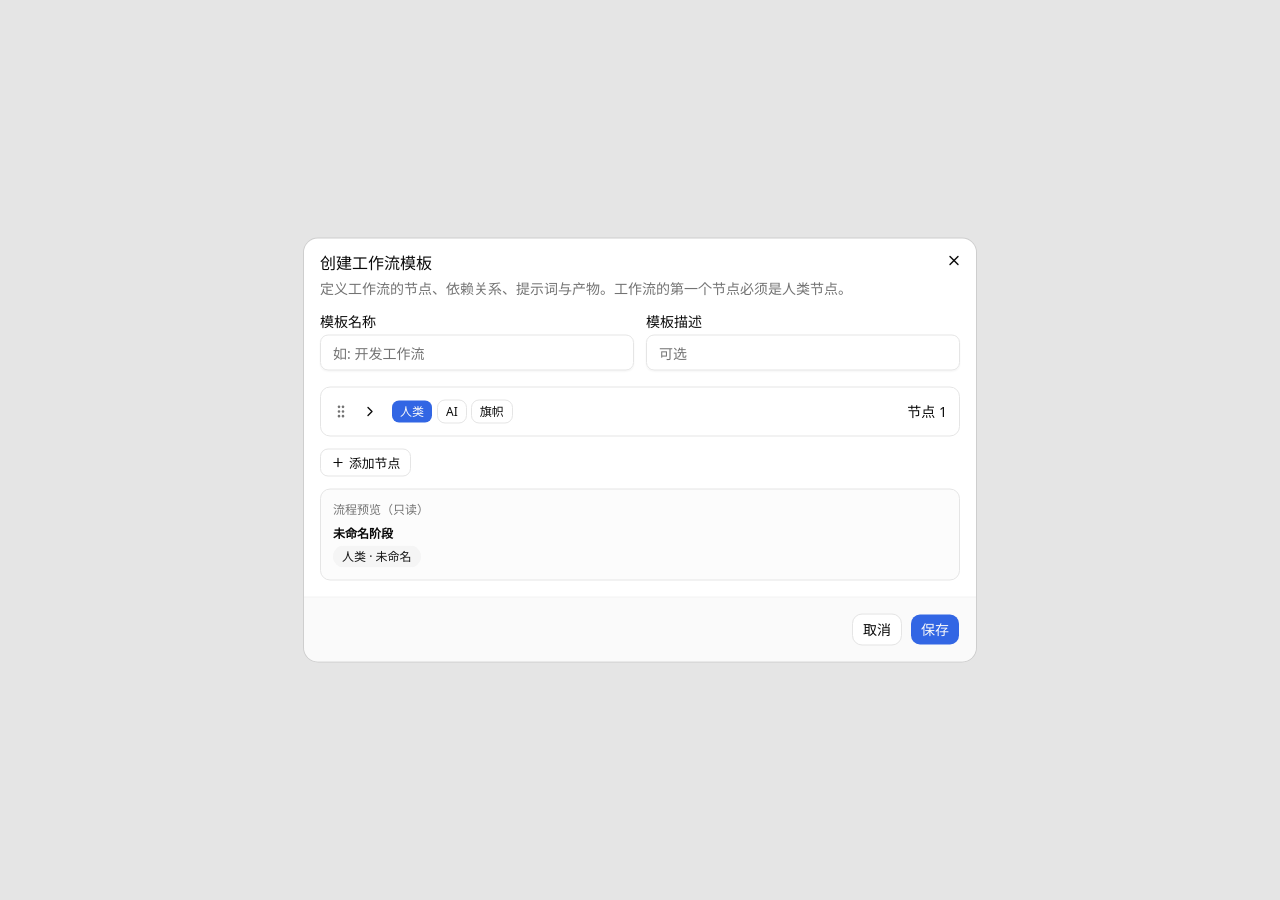
it: TemplateEditorDialog › 创建模式：默认包含一个人类节点
Click the button named "展开节点 1": (370, 412) top-left (353, 400), bottom-right (387, 424)
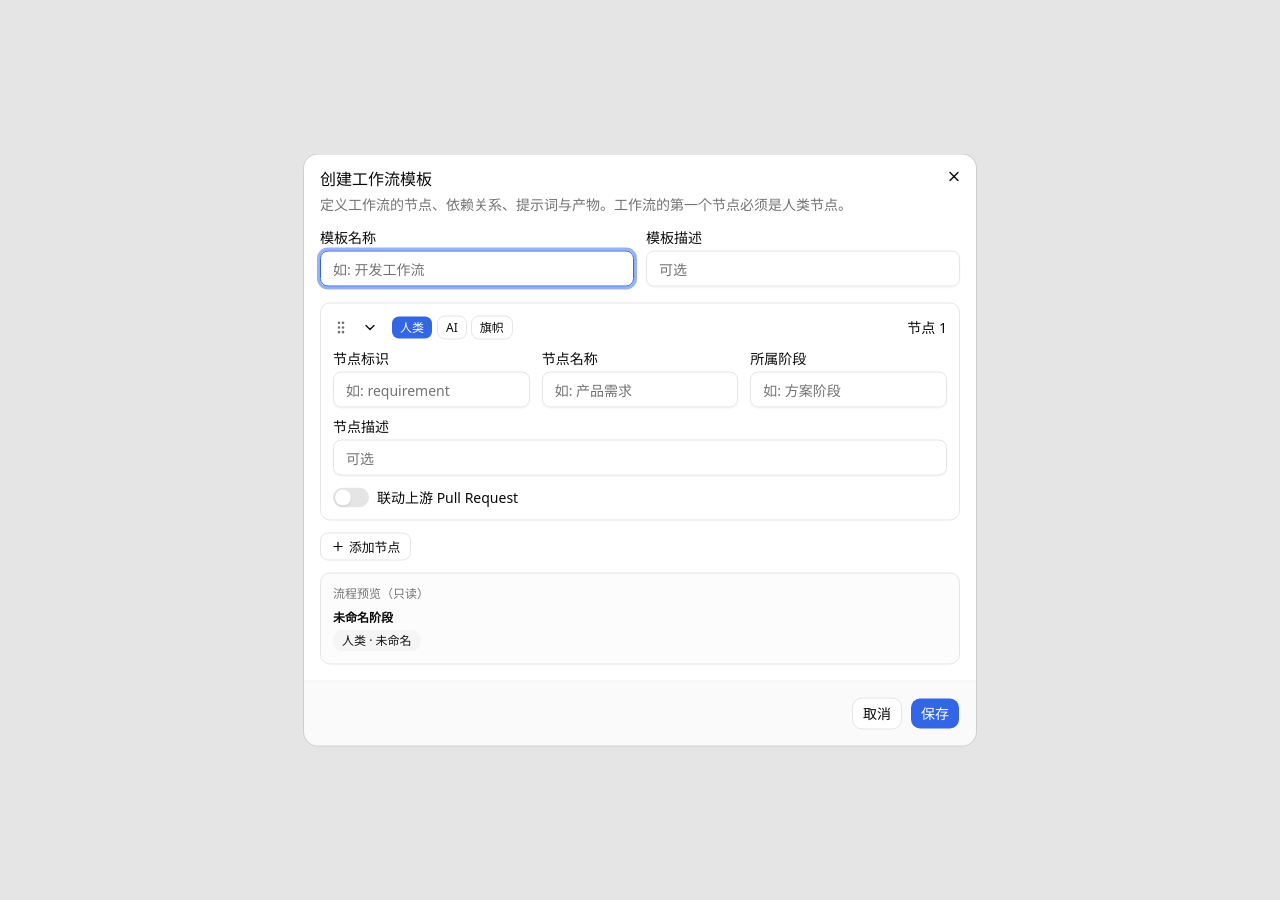
Check: the heading "创建工作流模板" is shown, box top-left (320, 168), bottom-right (432, 190)
Check: the field named "节点 1 标识" is shown, box top-left (333, 372), bottom-right (530, 408)
